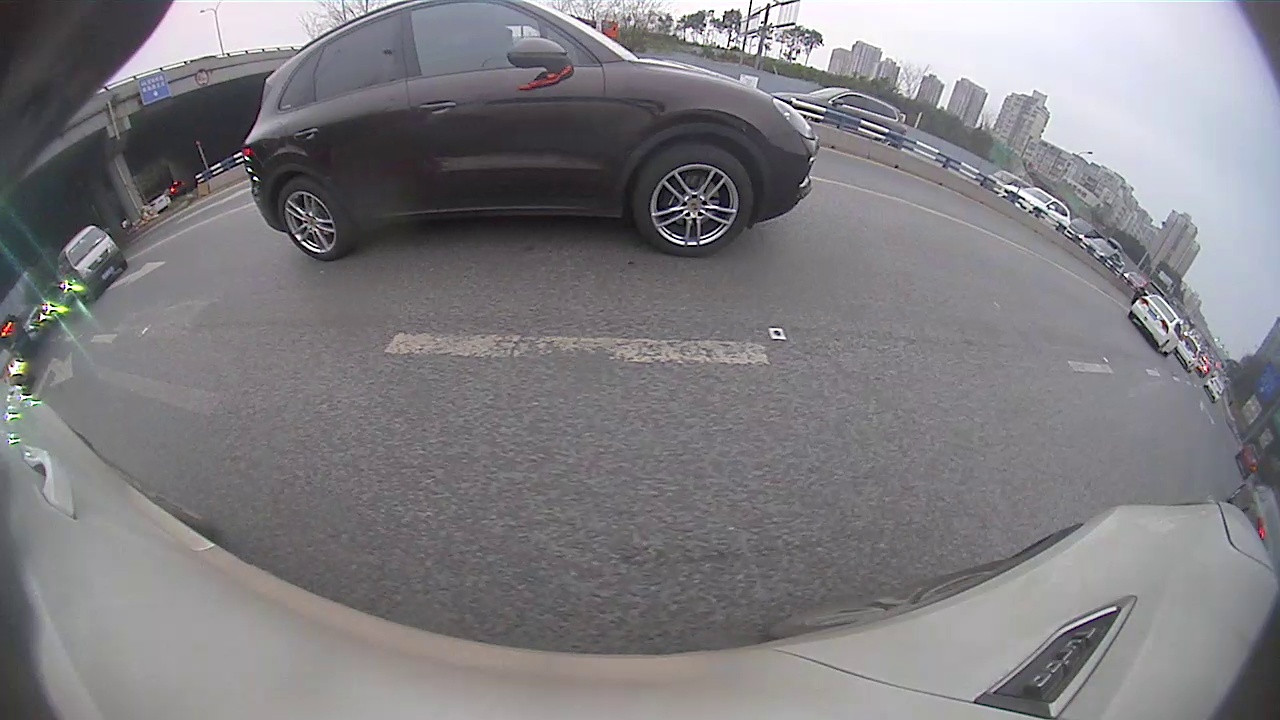car: (238, 2, 822, 261), (771, 85, 909, 138), (56, 224, 130, 299), (1129, 293, 1185, 358)
front: (632, 144, 757, 263)
rear: (279, 179, 349, 259)
